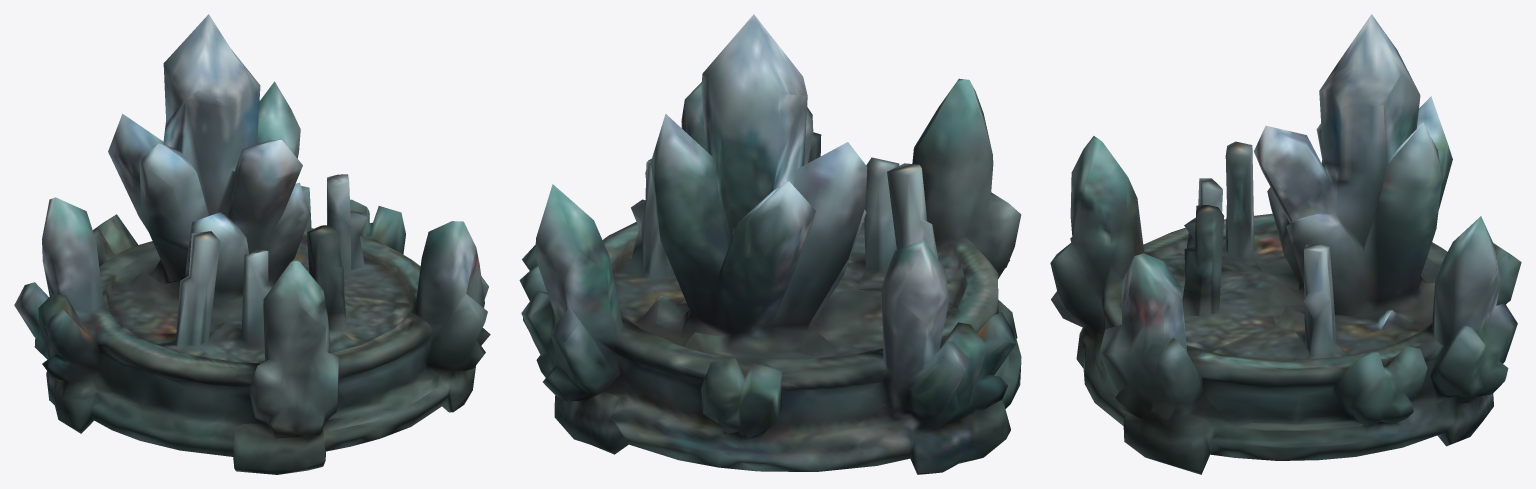
File: Altar_Grande.glb
3 renders of one model, left to right at view 1: azimuth 30°, elevation 25°; view 2: azimuth 150°, elevation 25°; view 3: azimuth 270°, elevation 25°, orthographic. The views are drawn at different scales.
Parts seen in each view (by area): view 1: Altar Grande; view 2: Altar Grande; view 3: Altar Grande.
Boxes of the visible parts, <box> form: Altar Grande: <box>14,14,490,474</box>; Altar Grande: <box>519,14,1021,474</box>; Altar Grande: <box>1050,14,1521,474</box>.
Size of the model in its own units: 0.1476 by 0.1285 by 0.1485.
1 material, 1 textured.
